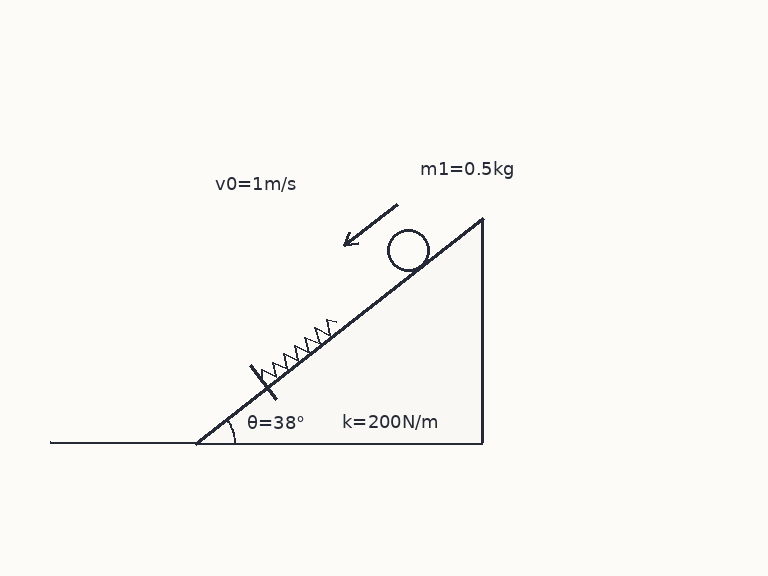ball: (385, 227, 431, 273)
ramp: (193, 216, 485, 445)
spring: (260, 318, 339, 382)
